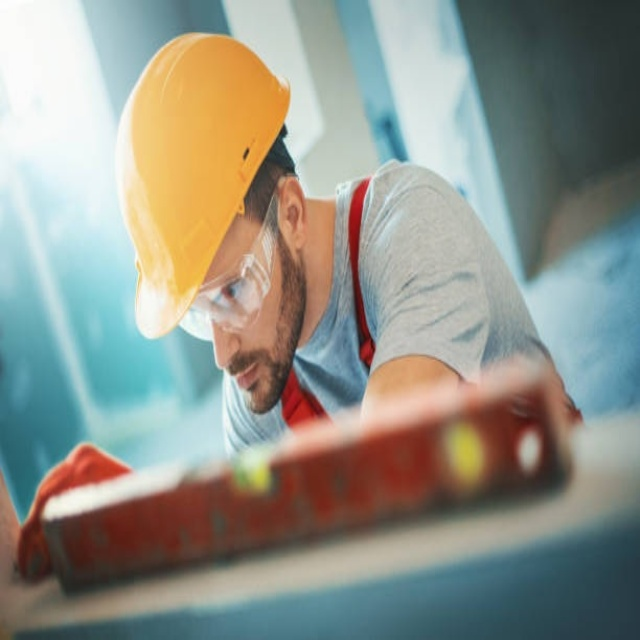Gafas: (178, 188, 281, 340)
Sin_mascara: (218, 347, 280, 412)
